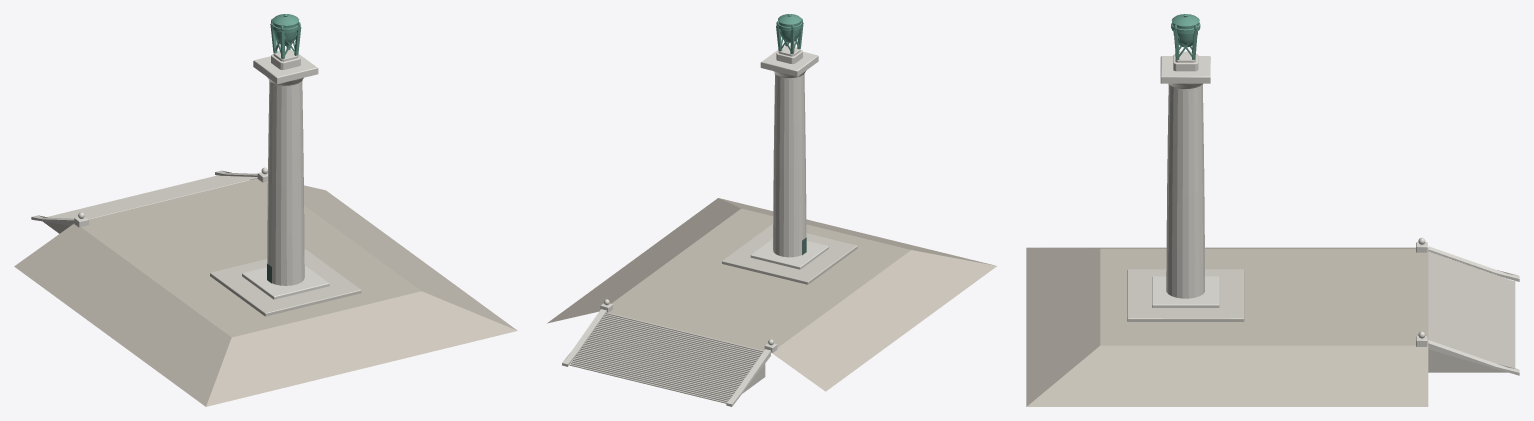
File: nyc-prison-ship-martyrs.glb
3 views of the same model, side by side, from view 1: azimuth 30°, elevation 25°; view 2: azimuth 150°, elevation 25°; view 3: azimuth 270°, elevation 25° (orthographic). The views are drawn at different scales.
Parts seen in each view (by area): view 1: Prison Ship Martyrs' Monument; view 2: Prison Ship Martyrs' Monument; view 3: Prison Ship Martyrs' Monument.
Part boxes in pixels (bbox=[...]): Prison Ship Martyrs' Monument: bbox=[14, 14, 517, 406]; Prison Ship Martyrs' Monument: bbox=[547, 14, 996, 406]; Prison Ship Martyrs' Monument: bbox=[1026, 14, 1519, 406].
Size of the model in its own units: 52.88 by 48.45 by 69.14.
